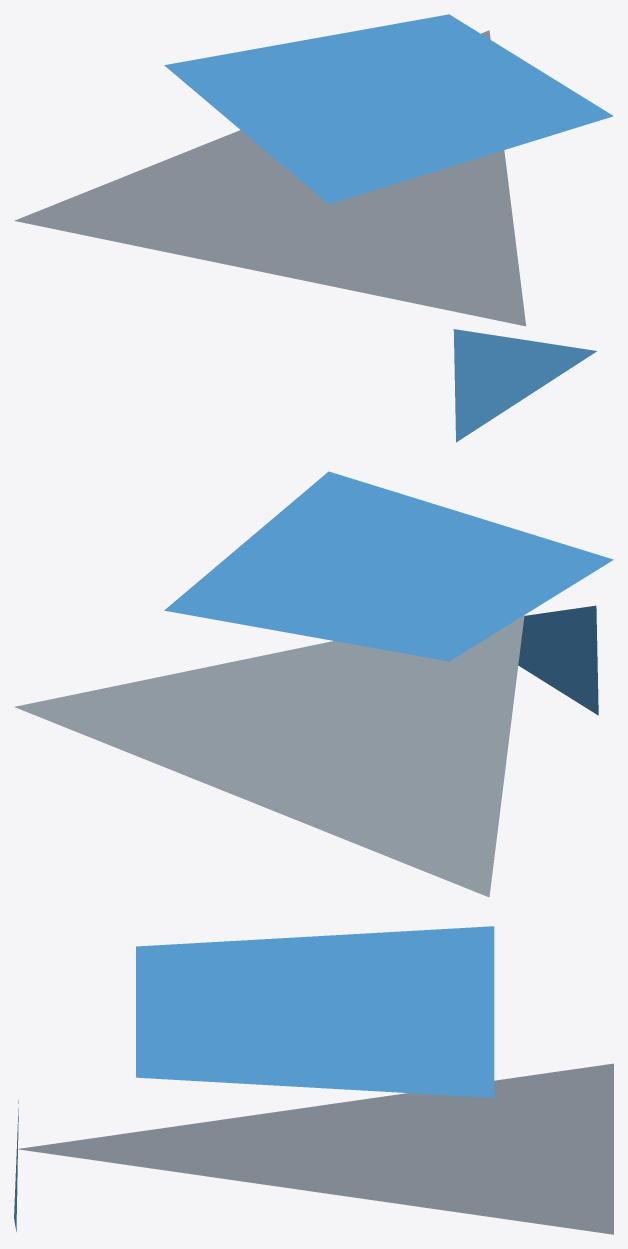
Rendered from AL_Airfield_LOD2.glb.
3 views of the same model, one above another, from view 1: azimuth 30°, elevation 25°; view 2: azimuth 150°, elevation 25°; view 3: azimuth 270°, elevation 25° (orthographic). The views are drawn at different scales.
Visible parts, largest first — view 1: EntranceGate; view 2: EntranceGate; view 3: EntranceGate.
Part boxes in pixels (x1,y1,x2,y2): EntranceGate: (14, 14, 613, 442); EntranceGate: (14, 471, 613, 897); EntranceGate: (14, 926, 613, 1234).
Size of the model in its own units: 800 by 375 by 803.
